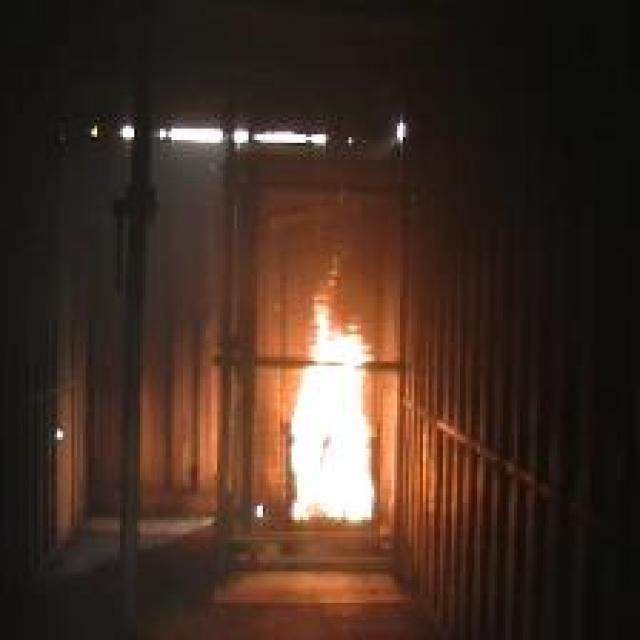Fire: (290, 296, 376, 522)
